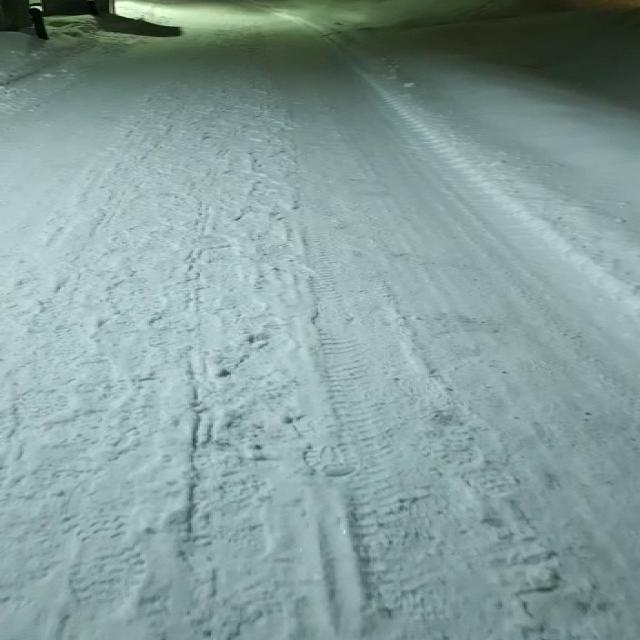path: (0, 0, 640, 640)
